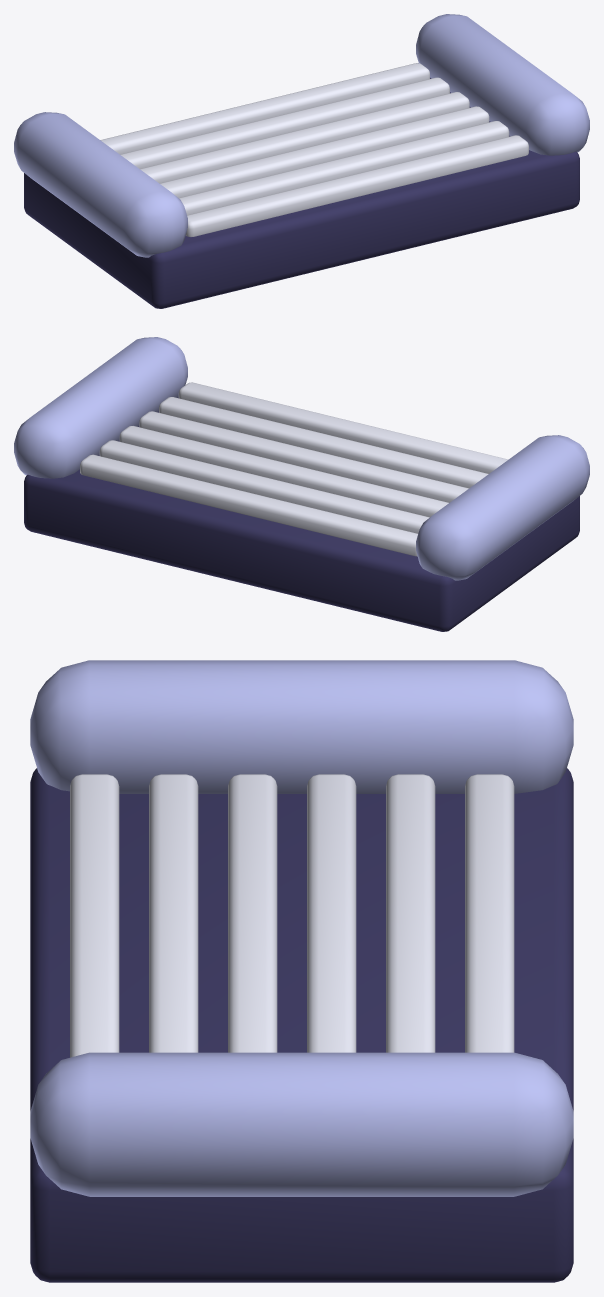
Rendered from Conveyor_End.glb.
The picture shows the model from 3 angles, top to bottom: view 1: azimuth 30°, elevation 25°; view 2: azimuth 150°, elevation 25°; view 3: azimuth 270°, elevation 25°; orthographic projection. The views are drawn at different scales.
Parts seen in each view (by area): view 1: End_Plate, End_Cap_L, End_Cap_R, End_Slat_1, End_Slat_2, End_Slat_3, End_Slat_5, End_Slat_4, End_Slat_6; view 2: End_Plate, End_Cap_L, End_Cap_R, End_Slat_6, End_Slat_5, End_Slat_1, End_Slat_3, End_Slat_4, End_Slat_2; view 3: End_Plate, End_Cap_R, End_Cap_L, End_Slat_1, End_Slat_2, End_Slat_3, End_Slat_4, End_Slat_5, End_Slat_6.
Boxes of the visible parts, bbox=[...] form: End_Plate: bbox=[24, 77, 579, 308]; End_Cap_L: bbox=[14, 112, 187, 257]; End_Cap_R: bbox=[416, 14, 589, 155]; End_Slat_1: bbox=[186, 135, 528, 236]; End_Slat_2: bbox=[179, 121, 509, 215]; End_Slat_3: bbox=[160, 106, 489, 197]; End_Slat_5: bbox=[120, 77, 449, 168]; End_Slat_4: bbox=[140, 92, 469, 183]; End_Slat_6: bbox=[100, 63, 429, 154]; End_Plate: bbox=[24, 397, 579, 631]; End_Cap_L: bbox=[416, 435, 589, 580]; End_Cap_R: bbox=[14, 337, 187, 478]; End_Slat_6: bbox=[80, 454, 417, 556]; End_Slat_5: bbox=[99, 440, 429, 533]; End_Slat_1: bbox=[178, 382, 508, 473]; End_Slat_3: bbox=[139, 411, 468, 502]; End_Slat_4: bbox=[119, 426, 448, 517]; End_Slat_2: bbox=[159, 397, 488, 488]; End_Plate: bbox=[30, 768, 573, 1282]; End_Cap_R: bbox=[30, 1052, 573, 1196]; End_Cap_L: bbox=[30, 660, 573, 793]; End_Slat_1: bbox=[70, 774, 119, 1057]; End_Slat_2: bbox=[149, 774, 198, 1052]; End_Slat_3: bbox=[228, 774, 277, 1052]; End_Slat_4: bbox=[307, 774, 356, 1052]; End_Slat_5: bbox=[386, 774, 435, 1052]; End_Slat_6: bbox=[465, 774, 514, 1052].
Size of the model in its own units: 1.08 by 0.24 by 0.55.
